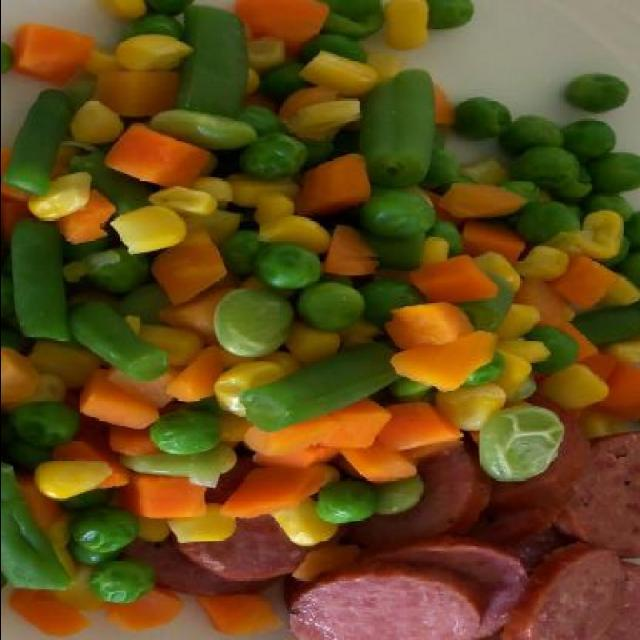Carrot: (102, 124, 214, 190), (4, 18, 98, 86)
